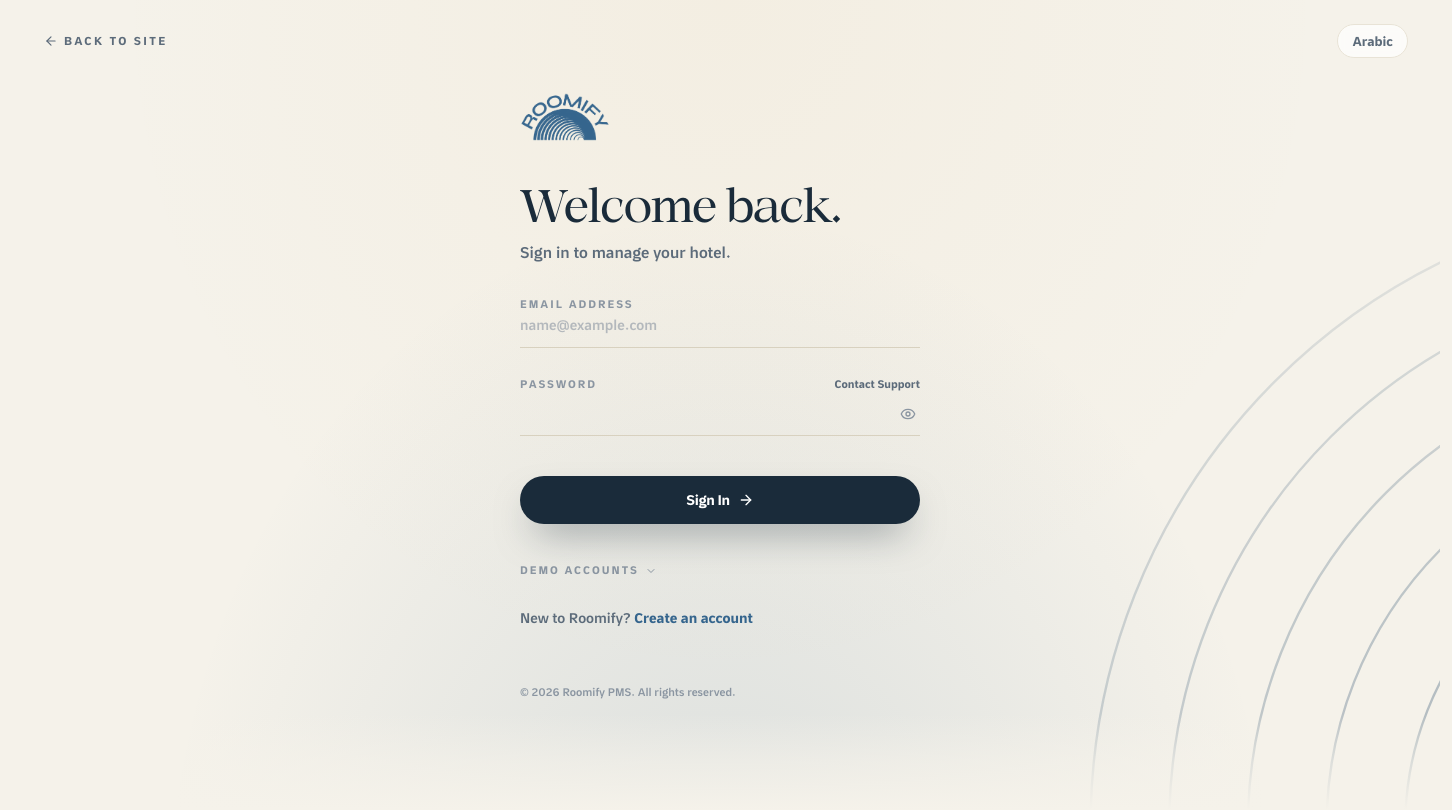
Test case: LoginPage › displays loading spinner during submission
# Fill in form
Type "test@example.com" into the field labelled "Email Address". click: (720, 326)
box: x1=520 y1=304 x2=920 y2=348
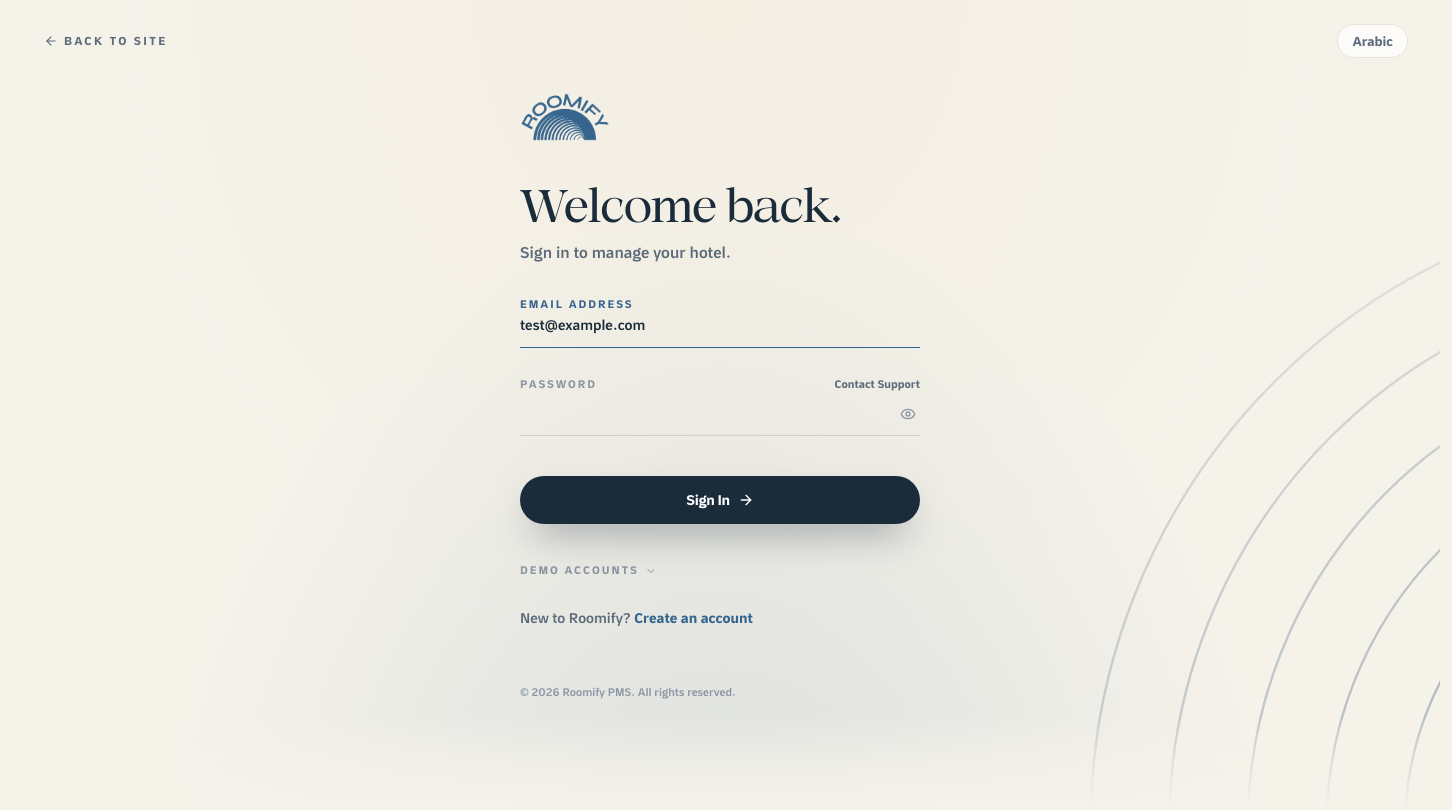
Type "password123" into the password field labelled "Password". click: (720, 414)
box: x1=520 y1=392 x2=920 y2=436
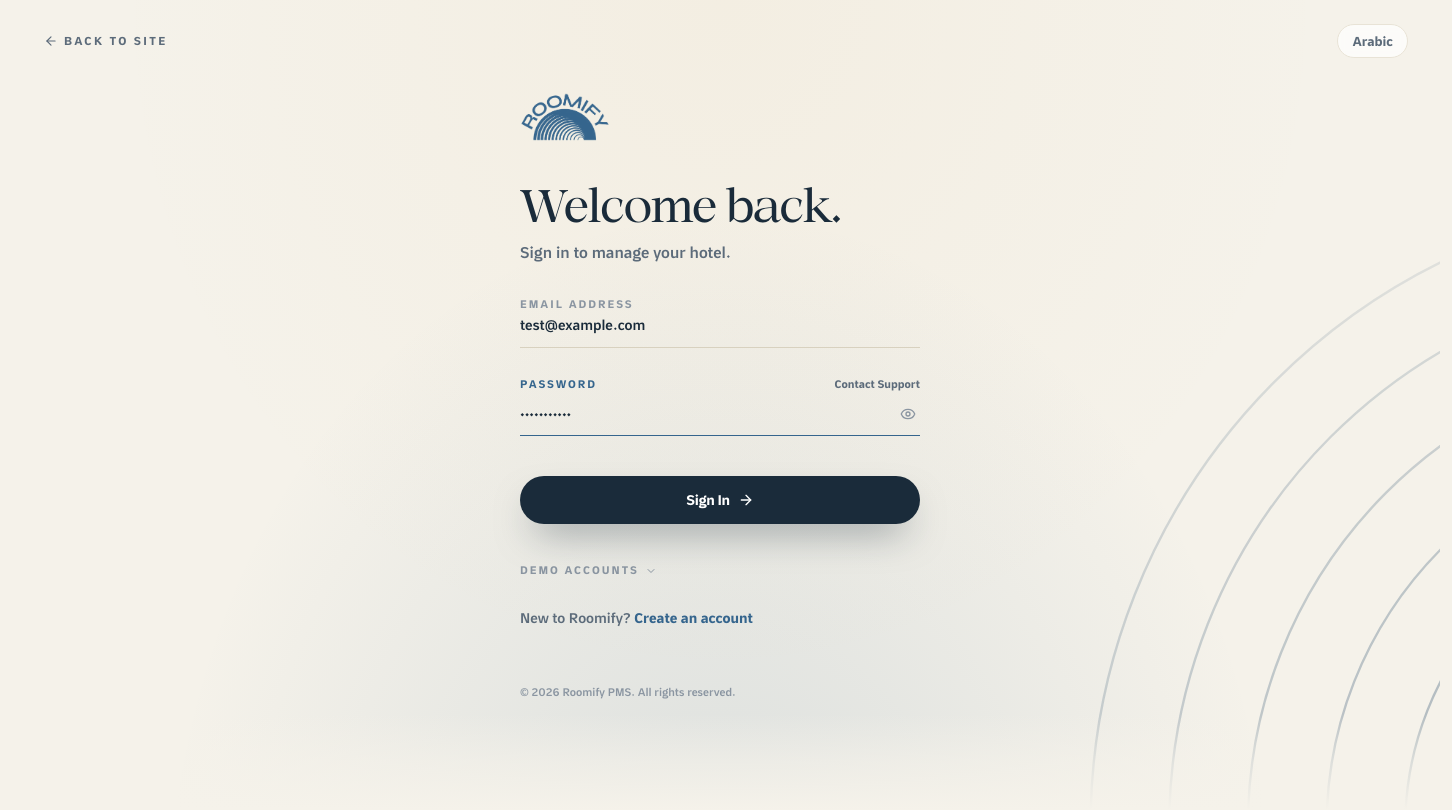
Click the button "Sign In". click: (720, 500)
box: x1=520 y1=476 x2=920 y2=524
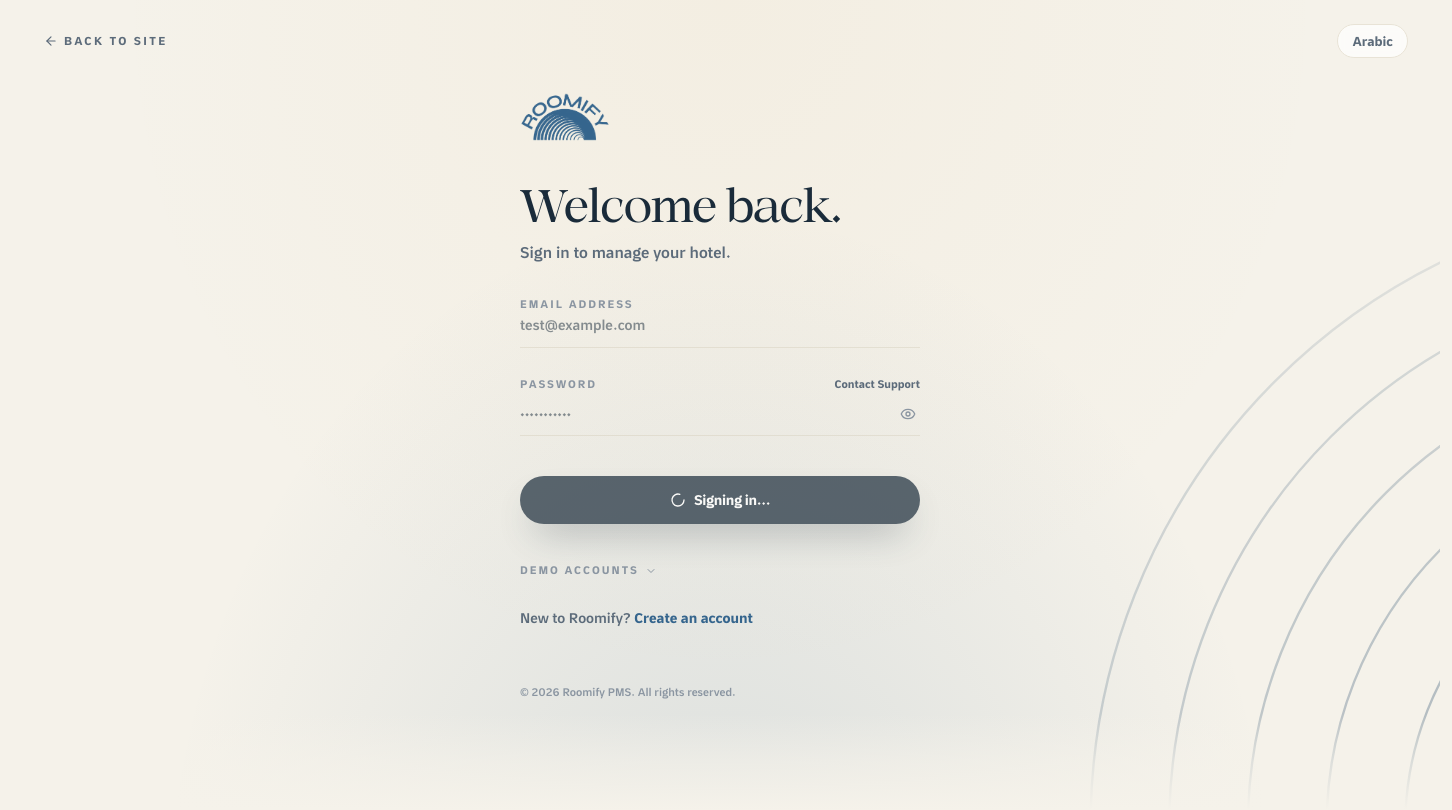
Expected: the text "Signing in..." is shown, x1=670 y1=490 x2=770 y2=511
Expected: the message is shown, x1=670 y1=492 x2=686 y2=508
